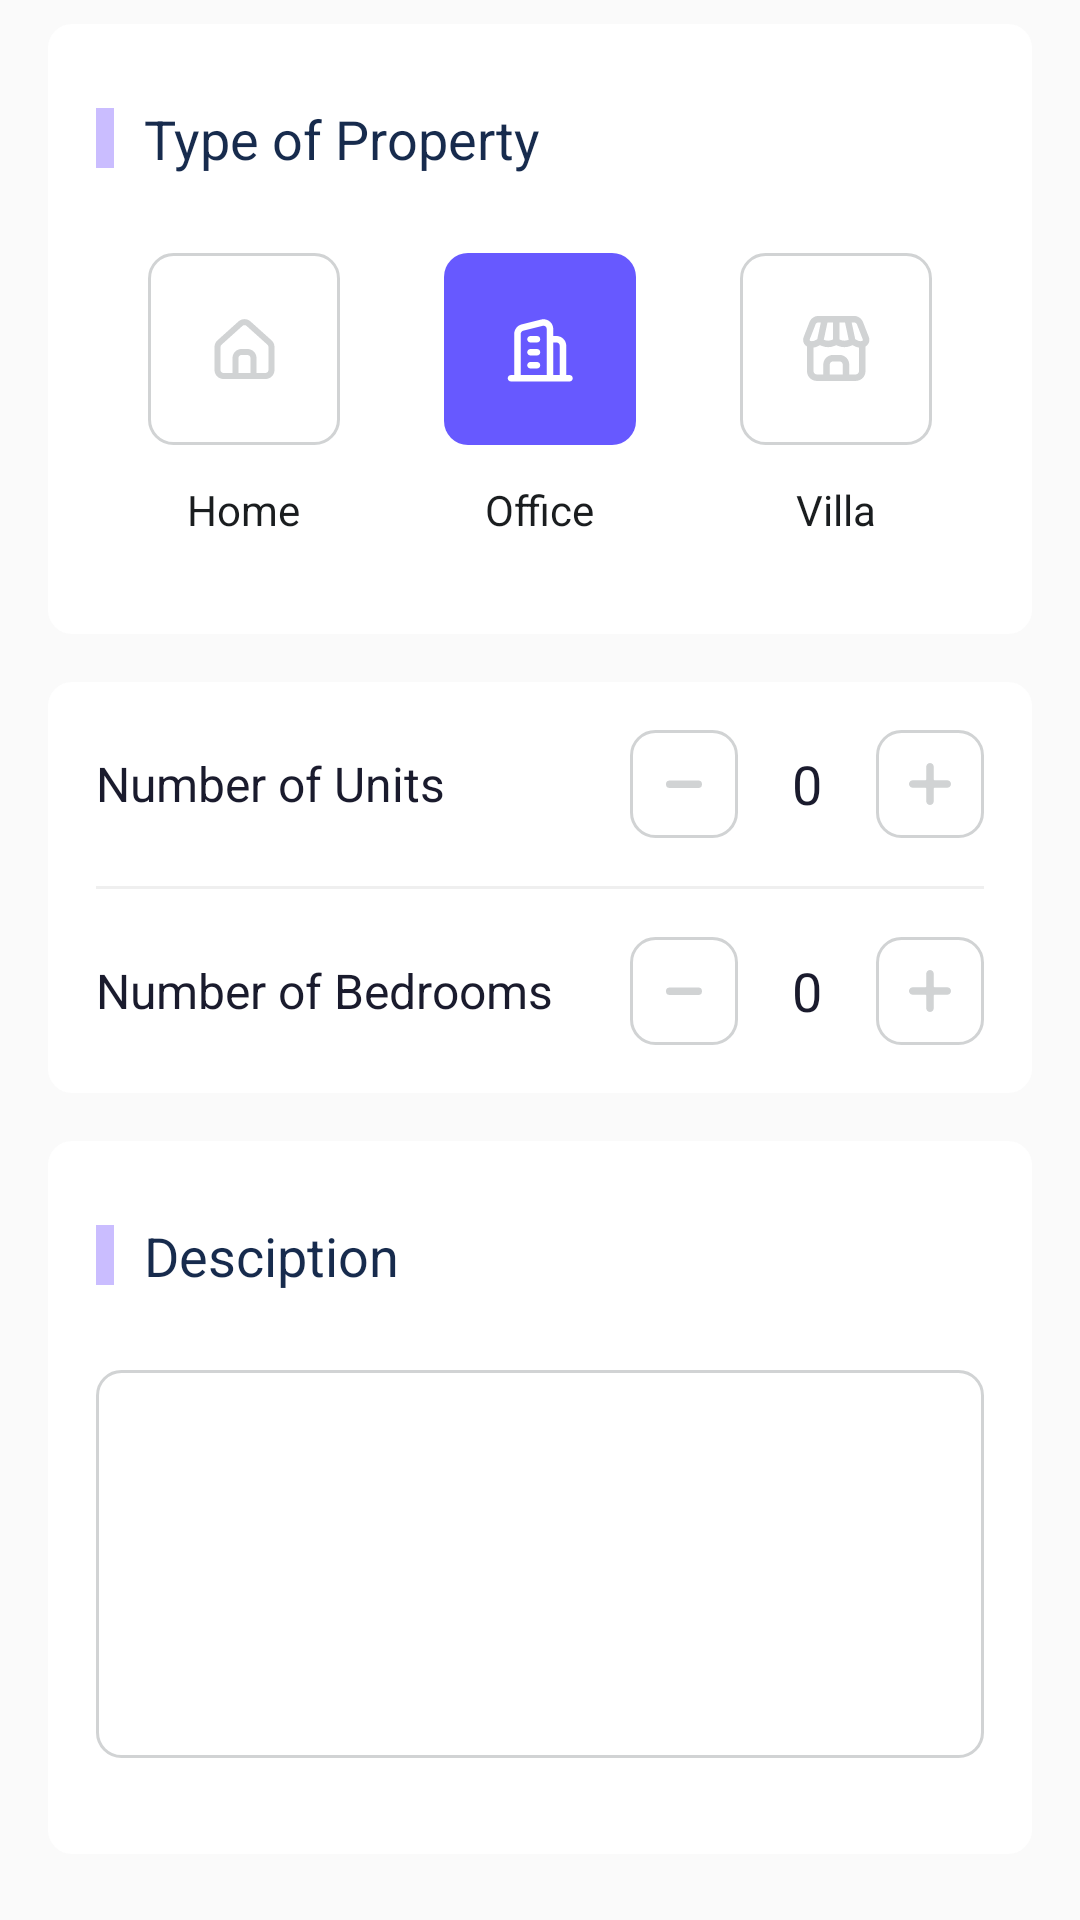

Icon bounding boxes for this 1080 × 1920 phone screenshot, format (x1, y1, x2, y2):
plus: (909, 763, 951, 805), (909, 970, 951, 1012)
